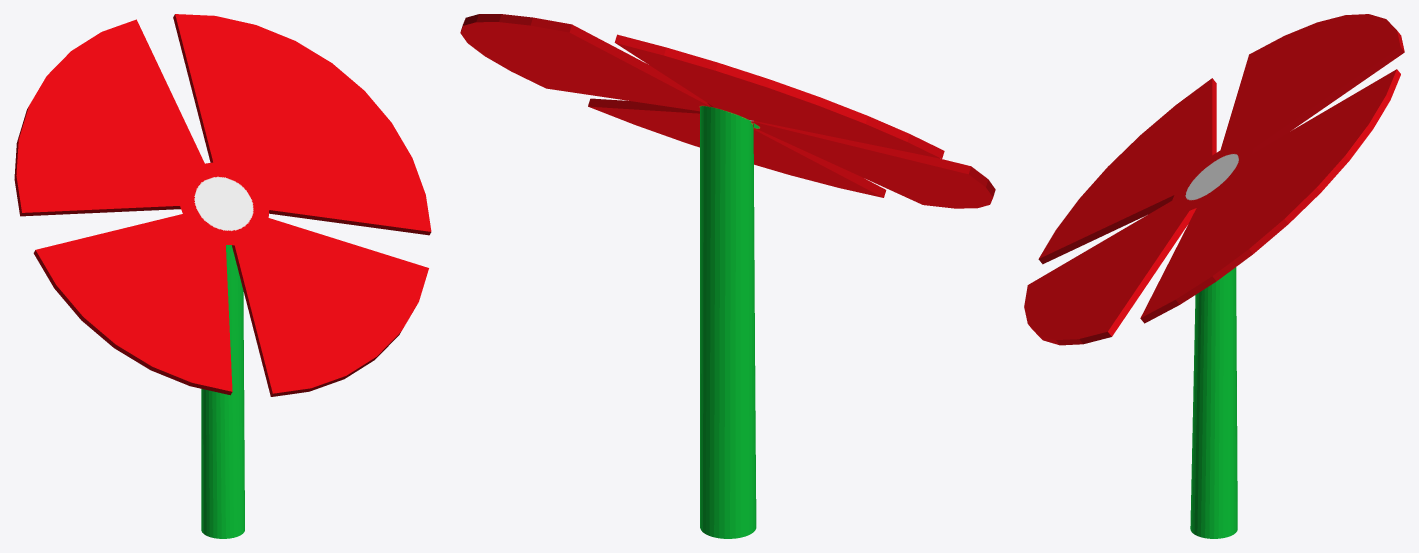
The model's file is Fleur.fbx.
3 renders of one model, left to right at view 1: azimuth 30°, elevation 25°; view 2: azimuth 150°, elevation 25°; view 3: azimuth 270°, elevation 25°, orthographic. The views are drawn at different scales.
Visible parts, largest first — view 1: Fleur; view 2: Fleur; view 3: Fleur.
Part boxes in pixels (box(x1,y1,x2,y2)): Fleur: box(14, 14, 431, 538); Fleur: box(460, 14, 995, 538); Fleur: box(1024, 14, 1404, 538).
Size of the model in its own units: 27.78 by 31.48 by 22.54.
